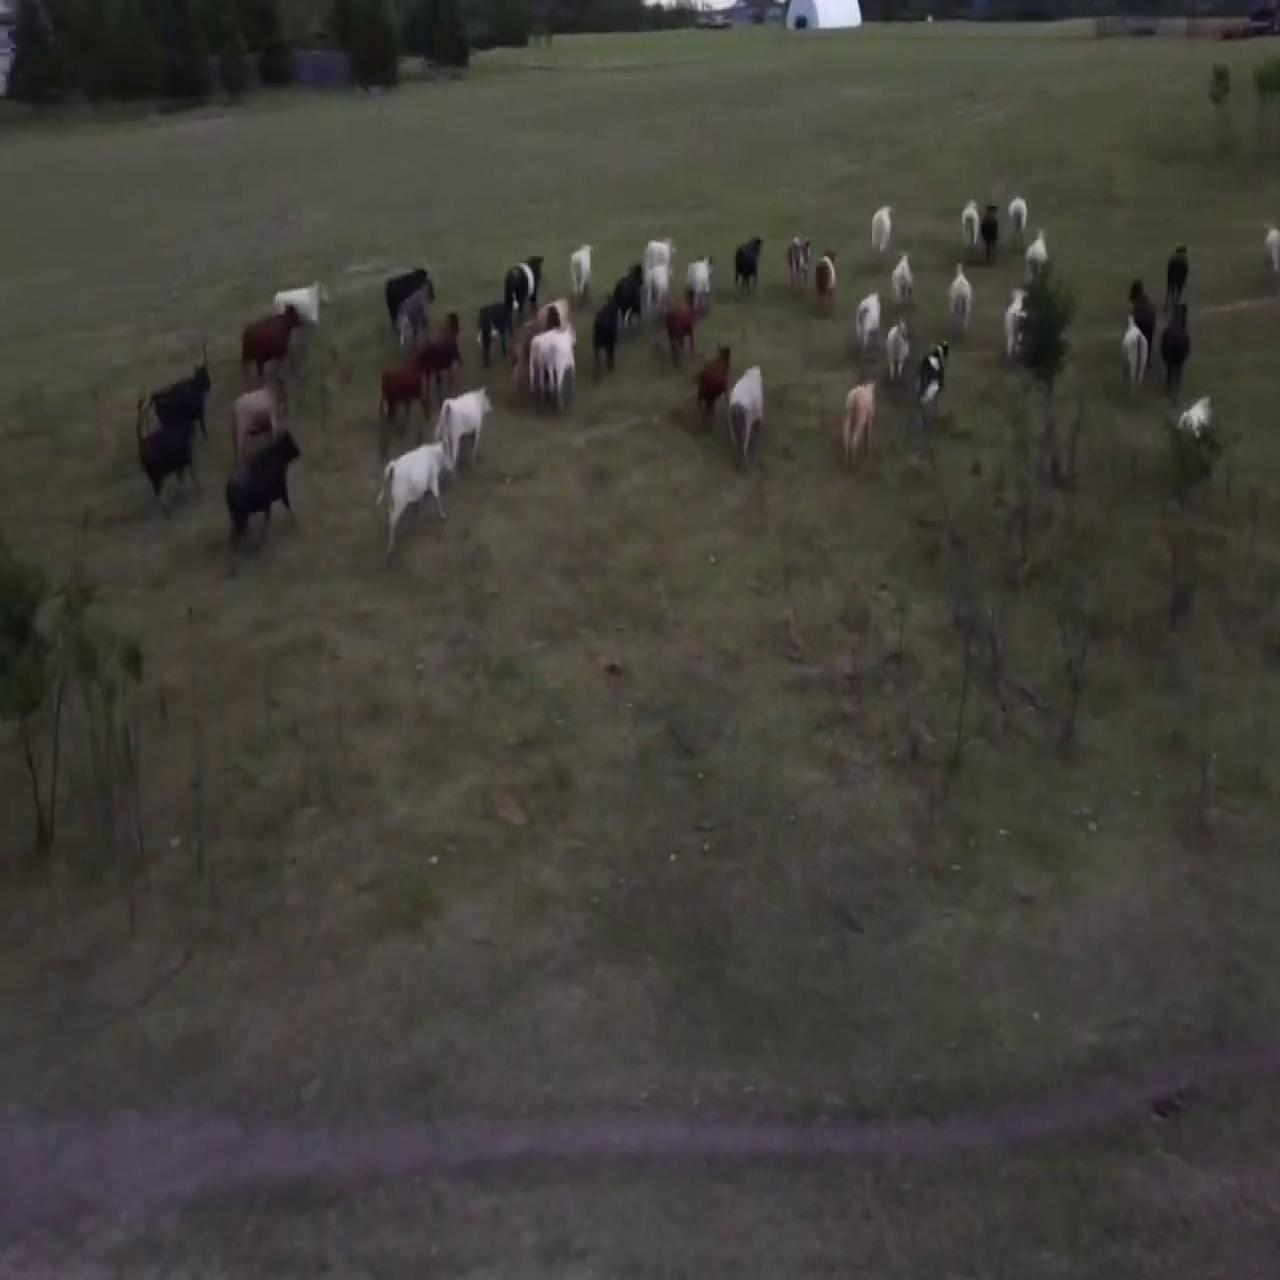cow: (219, 417, 308, 549), (130, 399, 207, 527), (374, 437, 455, 554), (237, 293, 314, 384), (142, 343, 215, 441), (434, 382, 490, 478), (837, 370, 881, 470), (729, 359, 771, 462), (374, 354, 424, 431), (372, 258, 427, 324), (383, 281, 442, 338), (502, 248, 542, 329), (694, 341, 730, 416), (942, 259, 979, 331), (870, 182, 898, 258)
